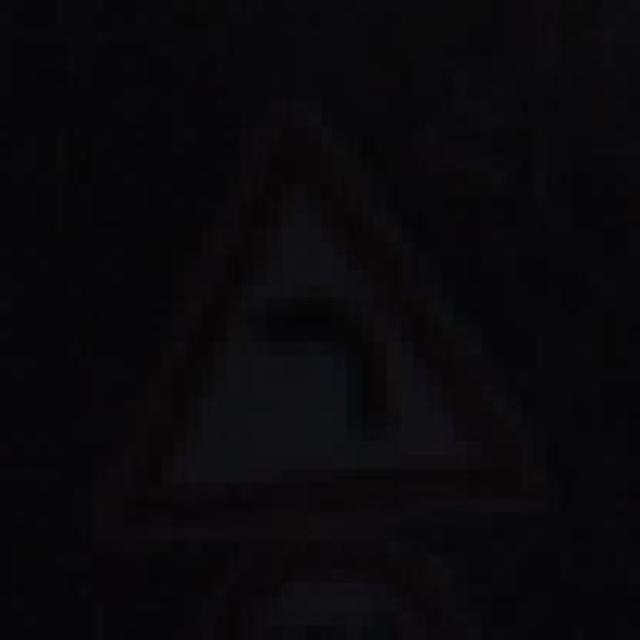Dangerous Left Curve Ahead: (120, 113, 574, 555)
